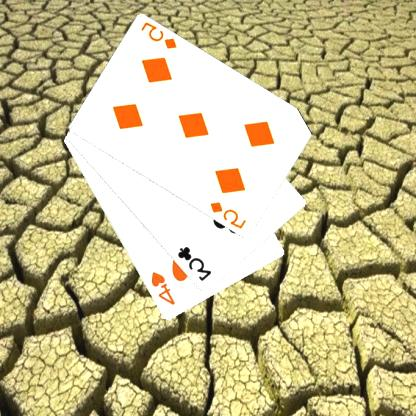3C: (176, 244, 215, 283)
4H: (150, 269, 178, 307)
5D: (140, 19, 180, 51), (209, 200, 250, 231)
